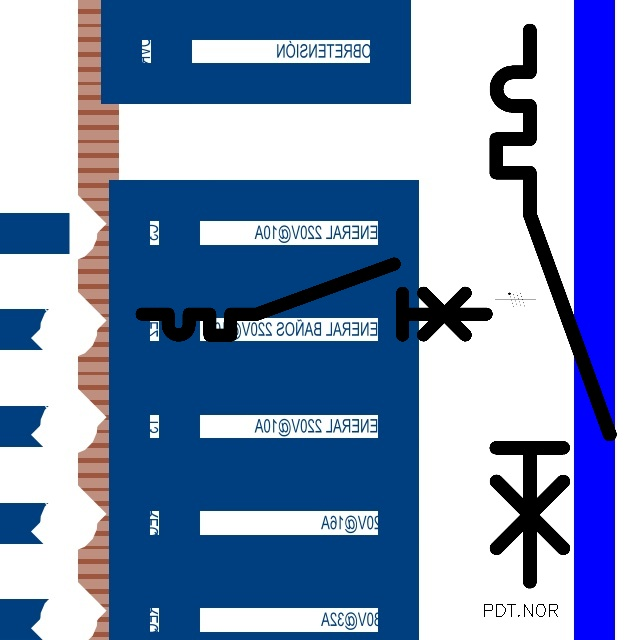interruptor_termomagnetico: (482, 16, 624, 596), (133, 255, 495, 344)
